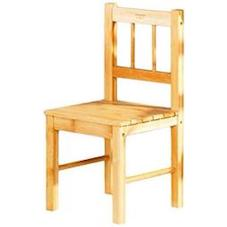chair: (20, 0, 205, 225)
